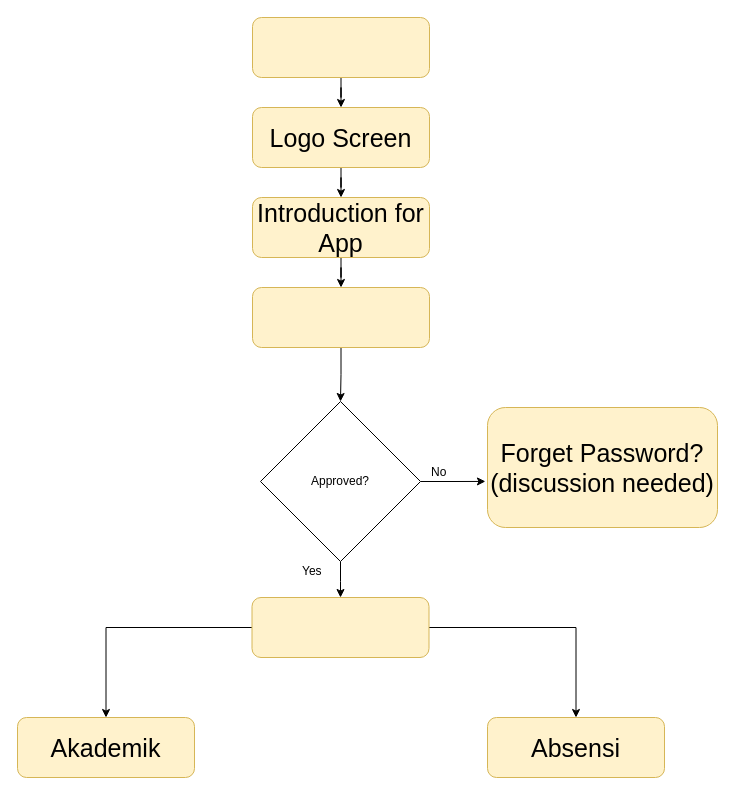
This 735x795 diagram has some shape labels left out. The centre of each missing label's shape, as x and y in pixels:
Click the App: [341,47]
Dashboard: [340,627]
Login Screen: [341,317]
